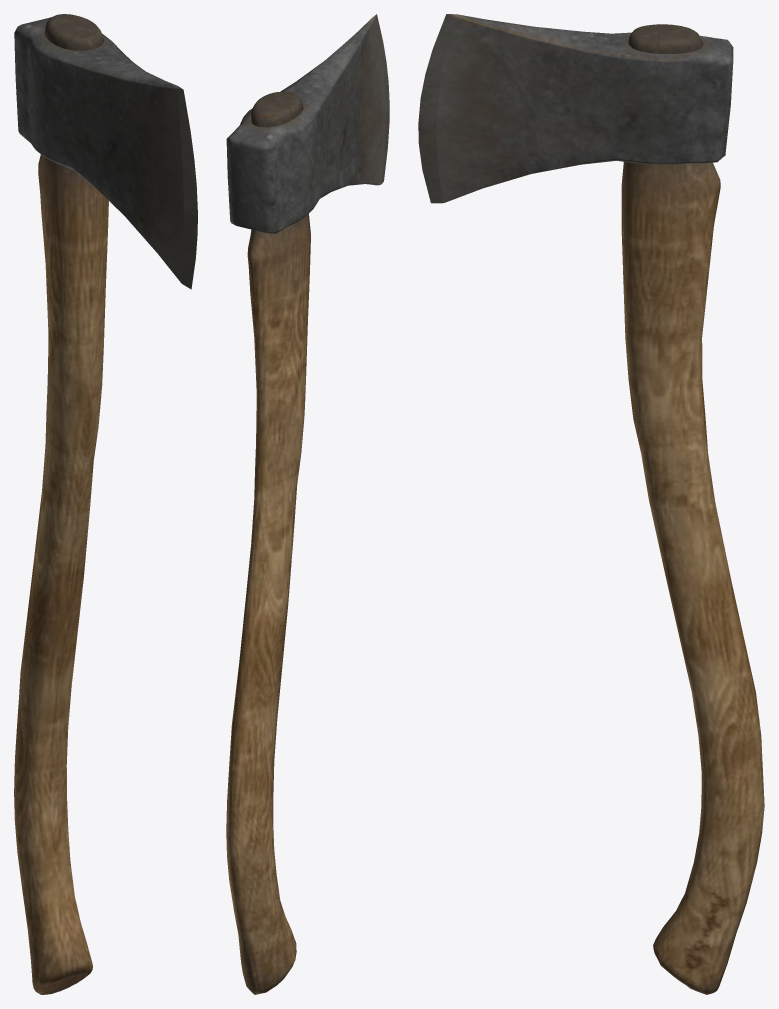
The model's file is wooden_axe_02.glb.
3 views of the same model, side by side, from view 1: azimuth 30°, elevation 25°; view 2: azimuth 150°, elevation 25°; view 3: azimuth 270°, elevation 25° (orthographic). The views are drawn at different scales.
Size of the model in its own units: 0.0509 by 0.7042 by 0.2258.
1 material, 1 textured.
